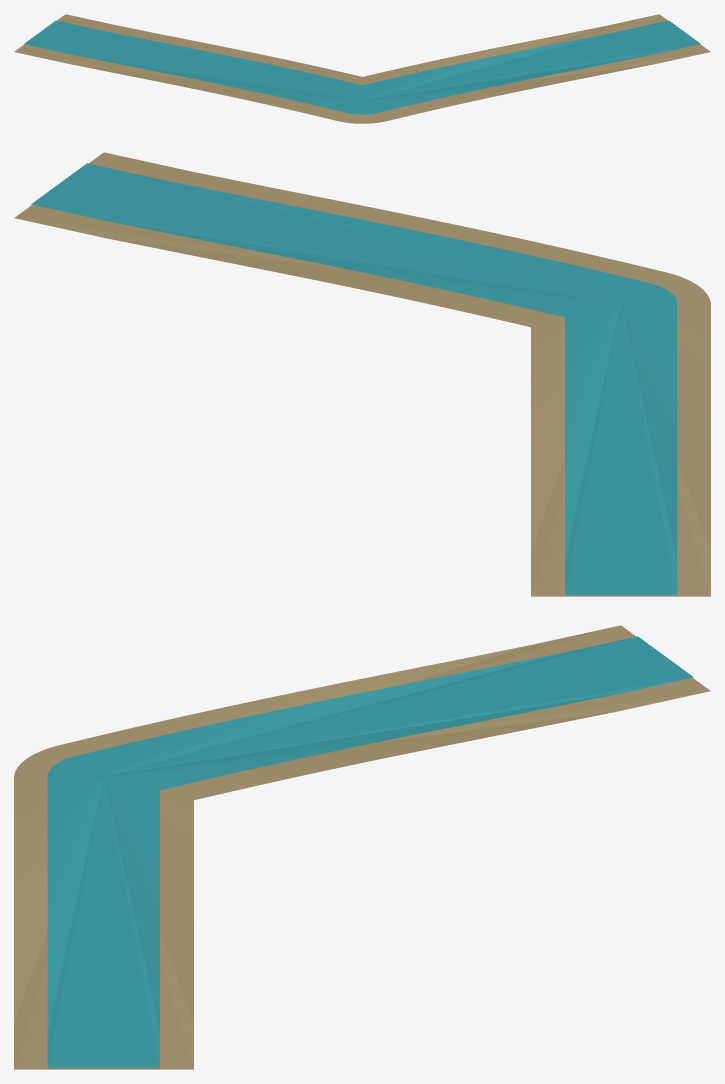
Rendered from RIVER_05.fbx.
3 renders of one model, top to bottom at view 1: azimuth 30°, elevation 25°; view 2: azimuth 150°, elevation 25°; view 3: azimuth 270°, elevation 25°, orthographic. The views are drawn at different scales.
Visible parts, largest first — view 1: Channel_surface.005, Channel_surface.004; view 2: Channel_surface.005, Channel_surface.004; view 3: Channel_surface.005, Channel_surface.004.
Part boxes in pixels (bbox=[...]): Channel_surface.005: bbox=[24, 20, 700, 114]; Channel_surface.004: bbox=[14, 14, 710, 123]; Channel_surface.005: bbox=[31, 163, 677, 595]; Channel_surface.004: bbox=[14, 152, 710, 596]; Channel_surface.005: bbox=[47, 636, 693, 1068]; Channel_surface.004: bbox=[14, 625, 710, 1069].
Bounding box in the file's own units: 140 × 2.8 × 93.
